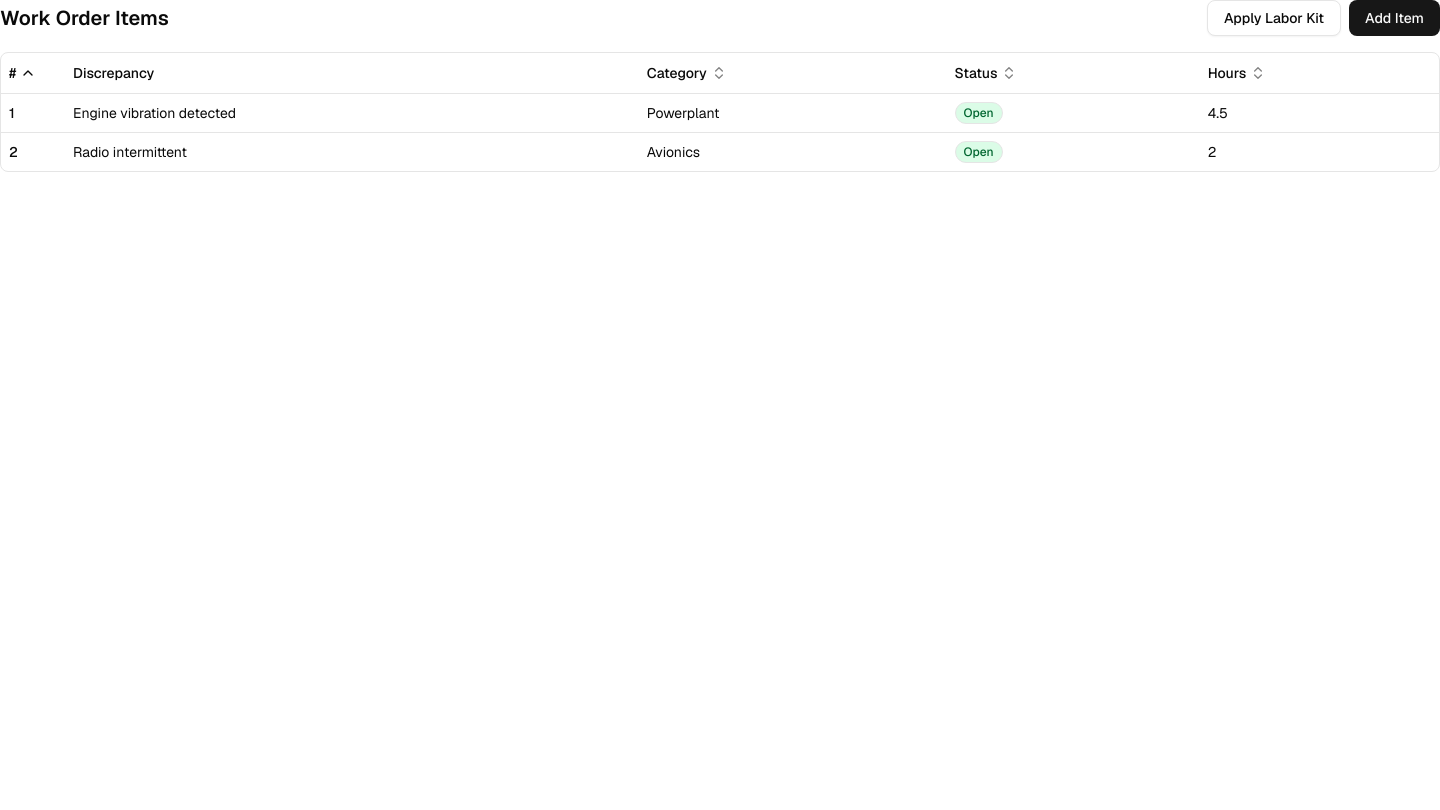
Test case: WorkOrderItemList › add item dialog › should open dialog when Add Item is clicked
This screenshot has width=1440, height=810.
Expected: the text "Engine vibration detected" is shown, [65, 93, 639, 132]
Click the button "Add Item" at (1395, 18), box [1349, 0, 1439, 36]
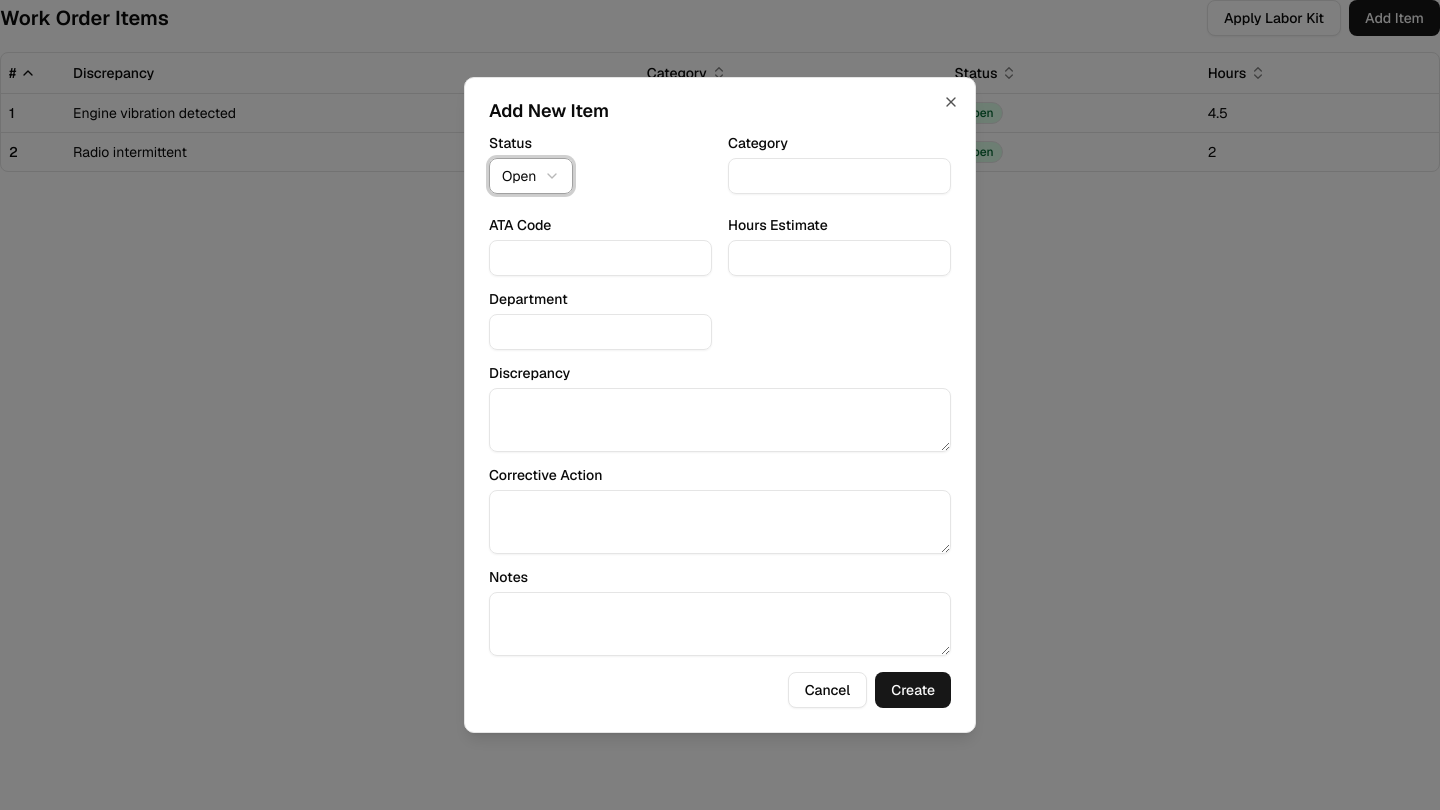
Expected: the heading "Add New Item" is shown, [489, 99, 609, 122]
